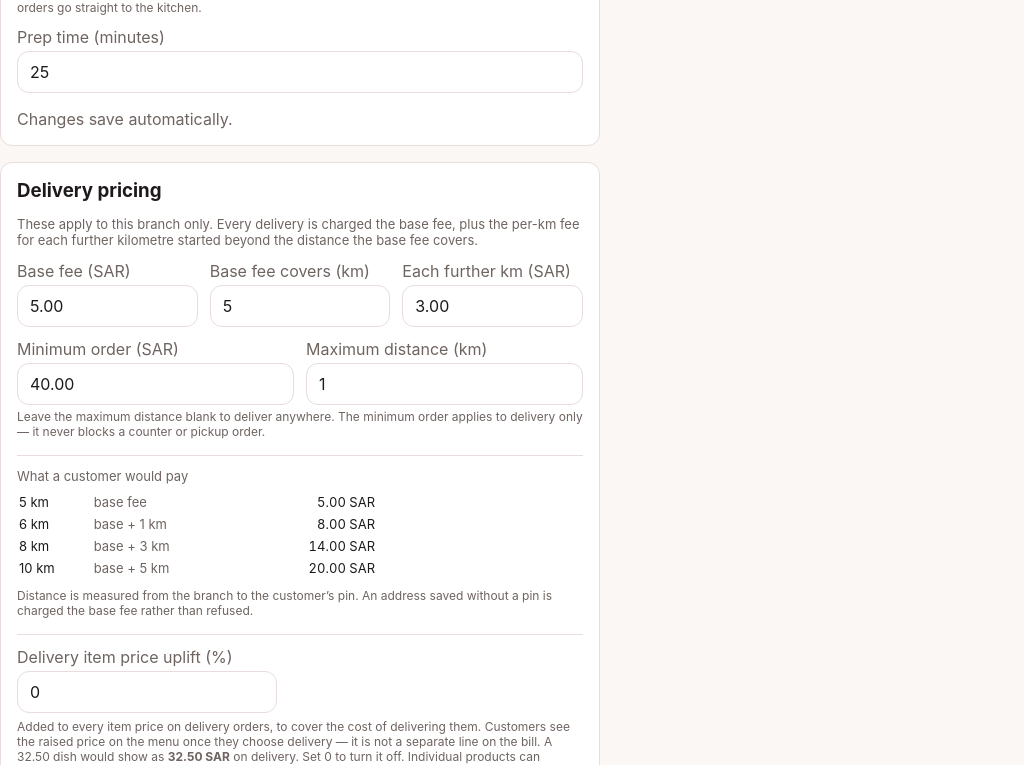
Test case: Branch settings — delivery pricing › sends the whole pricing block on Save, with the radius the owner typed
(page scrolled)
Replace the text in the number field with placeholder "No limit" with "25" at (444, 384), box [306,363,583,405]
(page scrolled)
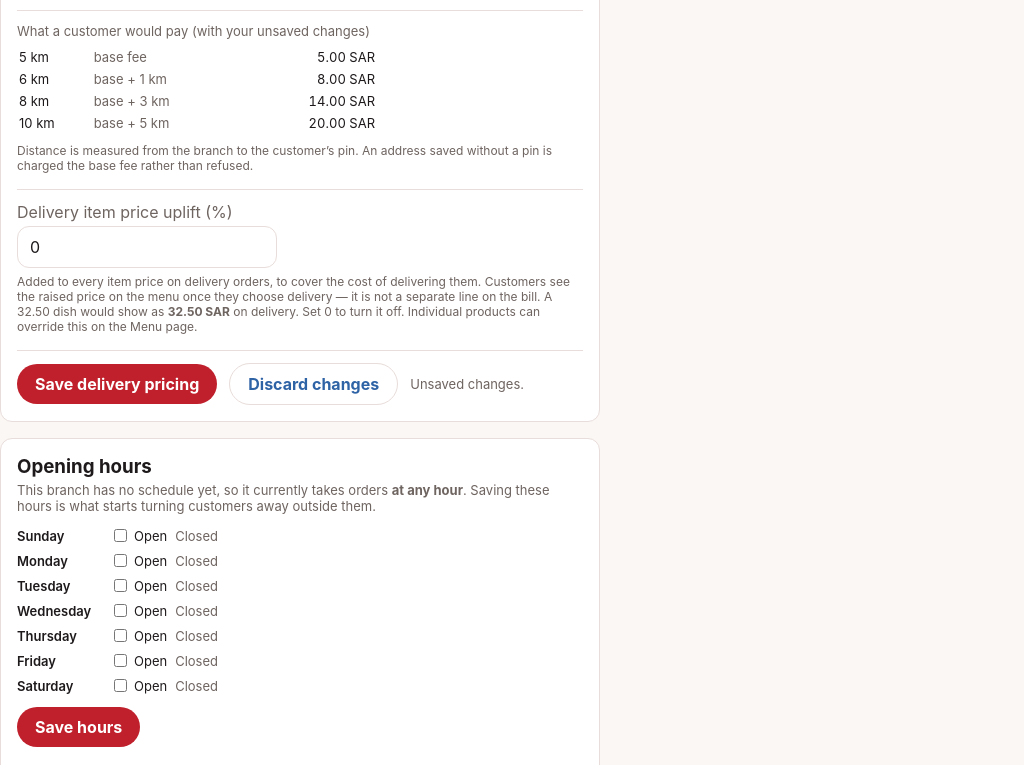
Click the button "Save delivery pricing" at (117, 384), box [17,364,217,404]
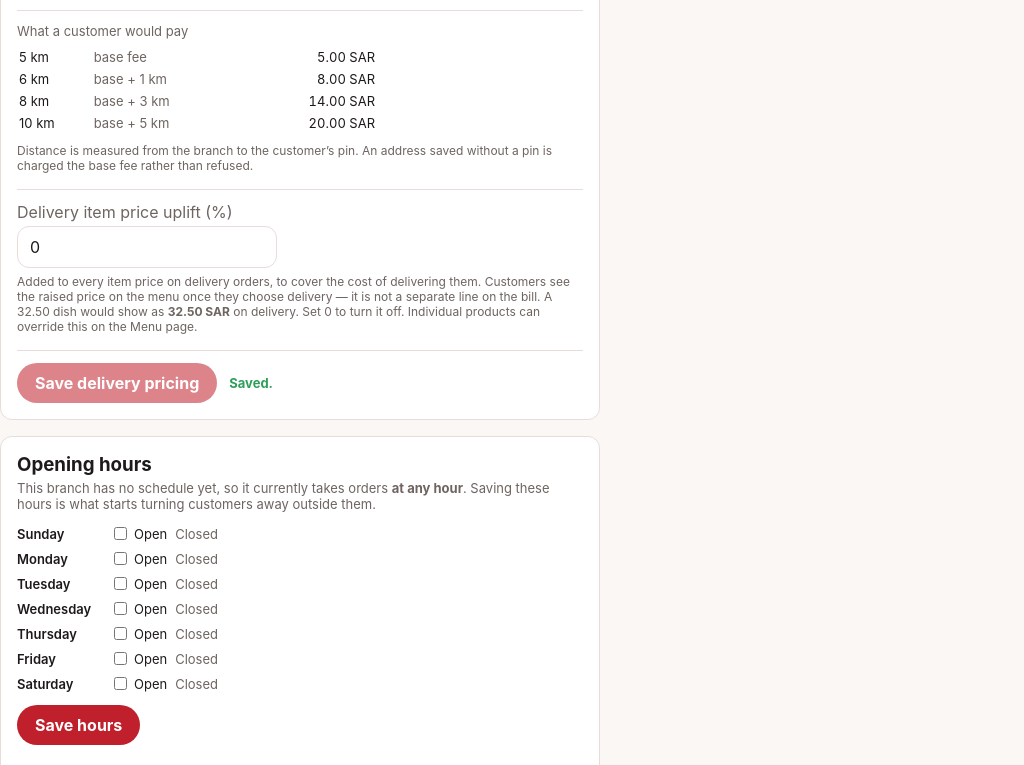
Result: the text "Saved." is shown at [229,375,273,391]
